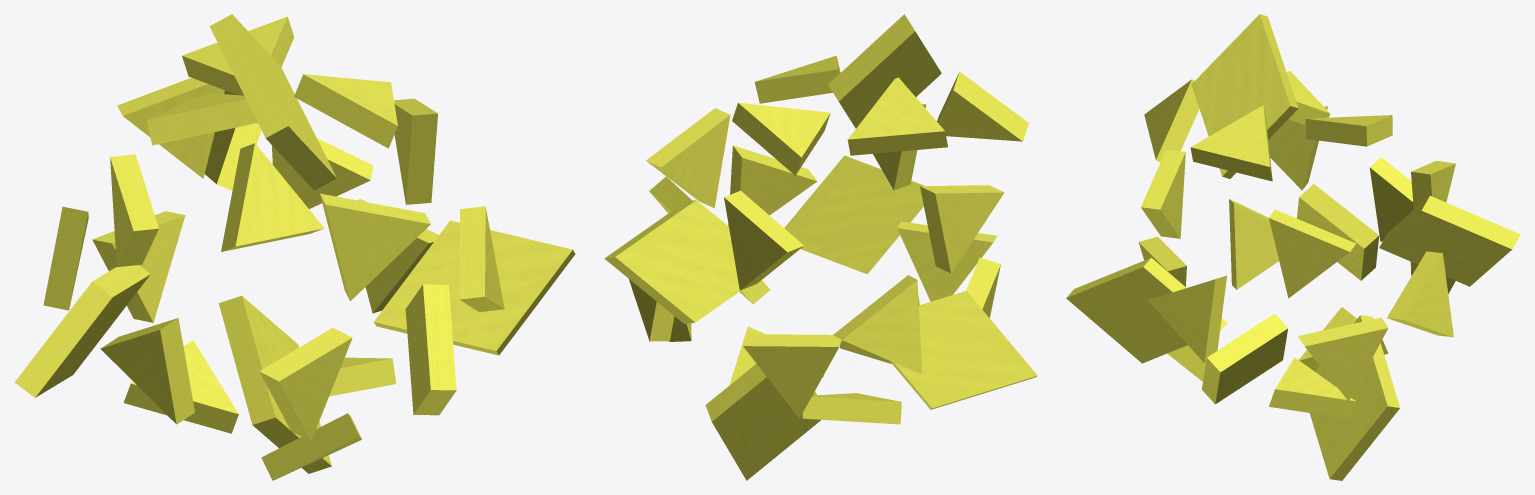
Rendered from qeri_rich.obj.
3 renders of one model, left to right at view 1: azimuth 30°, elevation 25°; view 2: azimuth 150°, elevation 25°; view 3: azimuth 270°, elevation 25°, orthographic. The views are drawn at different scales.
Visible parts, largest first — view 1: Cube.002; view 2: Cube.002; view 3: Cube.002.
Part boxes in pixels (left/top/right/bottom): Cube.002: left=14, top=14, right=575, bottom=480; Cube.002: left=604, top=14, right=1037, bottom=480; Cube.002: left=1066, top=14, right=1520, bottom=480.
Bounding box in the file's own units: 1.78 × 1.79 × 1.77.
